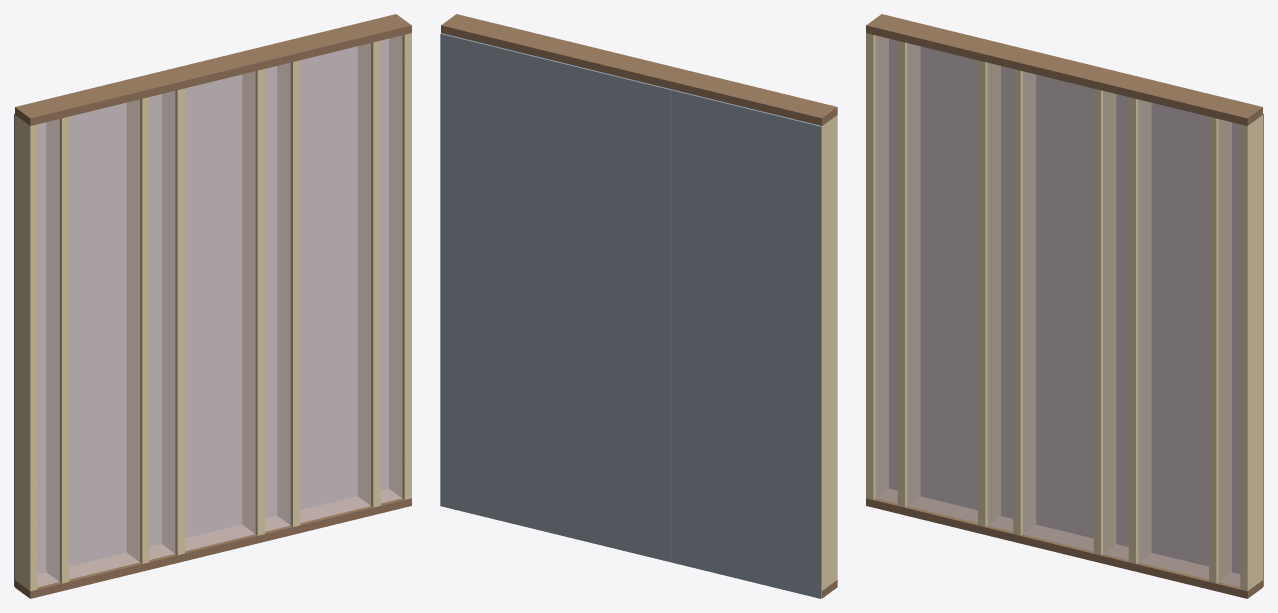
The picture shows the model from 3 angles, left to right: view 1: azimuth 30°, elevation 25°; view 2: azimuth 150°, elevation 25°; view 3: azimuth 330°, elevation 25°; orthographic projection.
Parts seen in each view (by area): view 1: EX1 GF; view 2: EX1 GF; view 3: EX1 GF.
Boxes of the visible parts, x1=… form: EX1 GF: x1=14, y1=14, x2=411, y2=598; EX1 GF: x1=440, y1=14, x2=837, y2=598; EX1 GF: x1=866, y1=14, x2=1263, y2=598.
Bounding box in the file's own units: 1.98 × 2.39 × 0.149.
